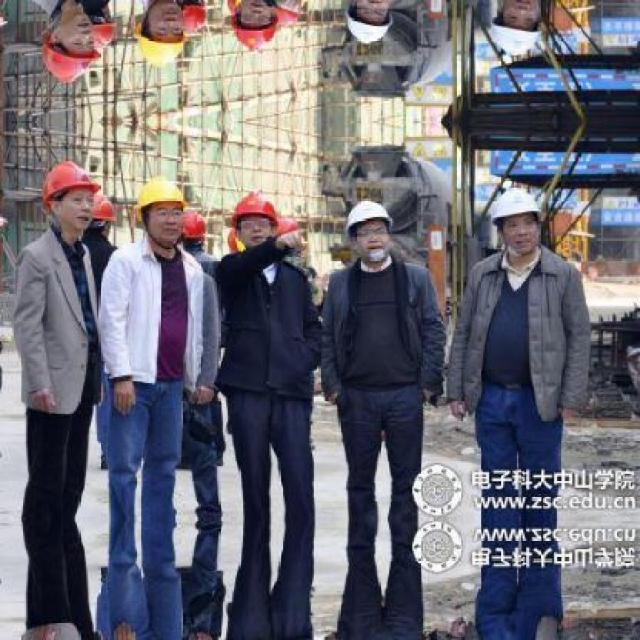helmet: (38, 158, 98, 232), (38, 8, 98, 82), (488, 184, 540, 256), (131, 0, 186, 65), (132, 176, 186, 242), (345, 192, 393, 260), (228, 189, 280, 251), (488, 0, 542, 57), (227, 0, 281, 52), (344, 0, 394, 49), (92, 188, 117, 248), (175, 210, 207, 255), (92, 0, 118, 52), (174, 0, 208, 31)
